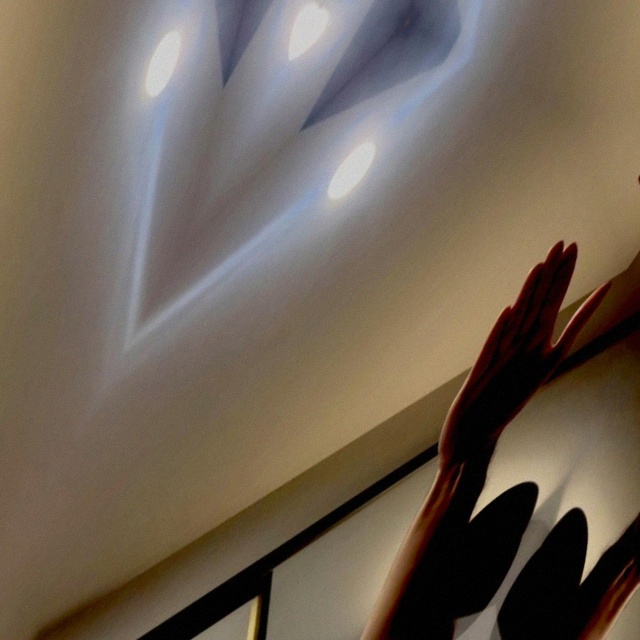Paper: (0, 0, 67, 191)
